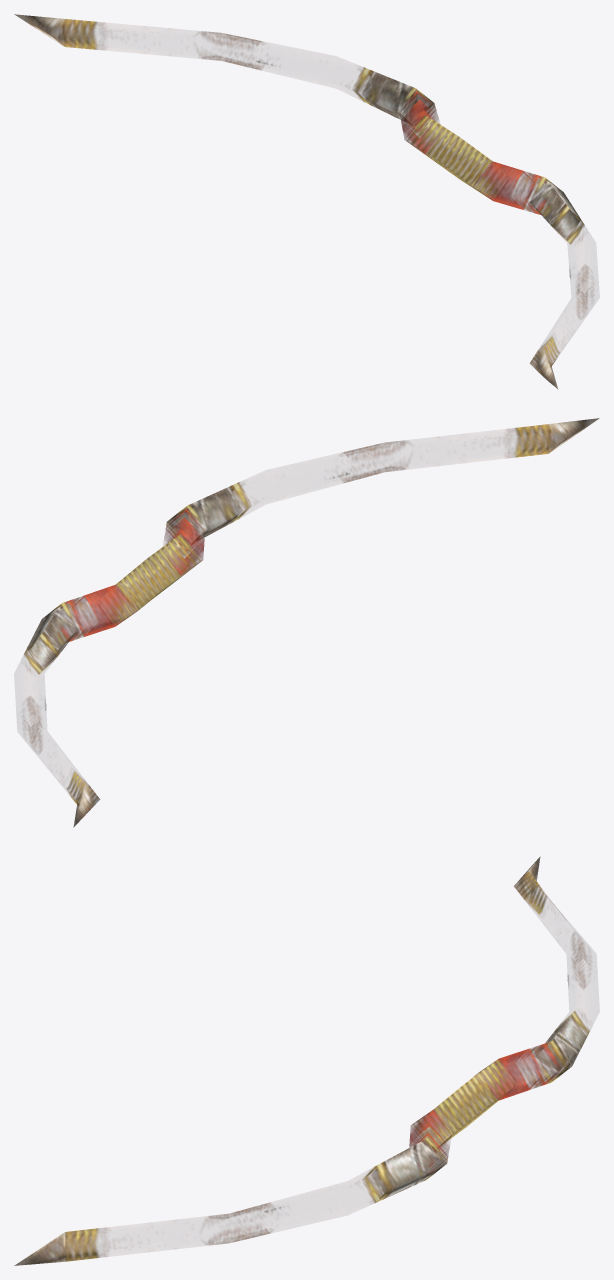
The model's file is bow_01.glb.
3 renders of one model, top to bottom at view 1: azimuth 30°, elevation 25°; view 2: azimuth 150°, elevation 25°; view 3: azimuth 330°, elevation 25°, orthographic. The views are drawn at different scales.
Visible parts, largest first — view 1: bow_01; view 2: bow_01; view 3: bow_01.
Boxes of the visible parts, x1,y1,x2,y2 form: bow_01: (14,14,598,389); bow_01: (17,418,599,827); bow_01: (14,856,596,1265).
Size of the model in its own units: 0.2909 by 0.0511 by 1.14.
1 material, 1 textured.
